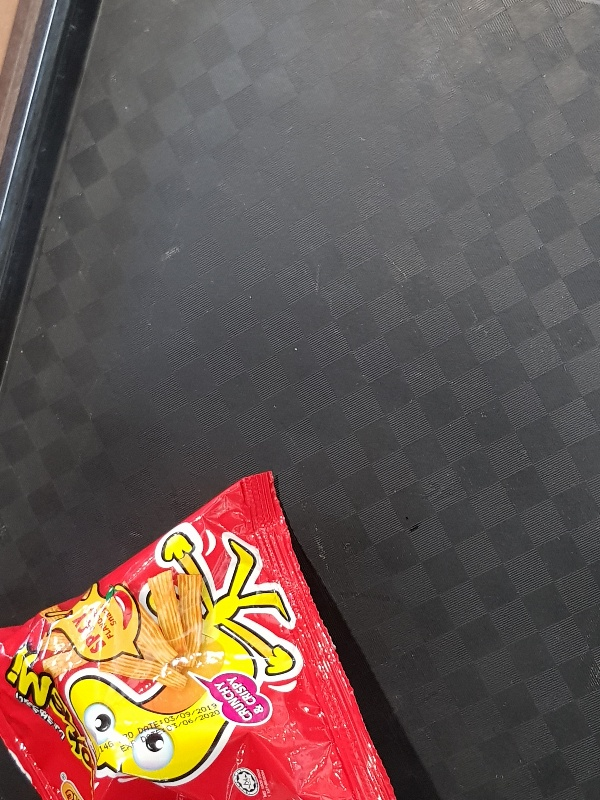ShoyueMi Spicy Flavoured Snacks: (1, 469, 396, 800)
